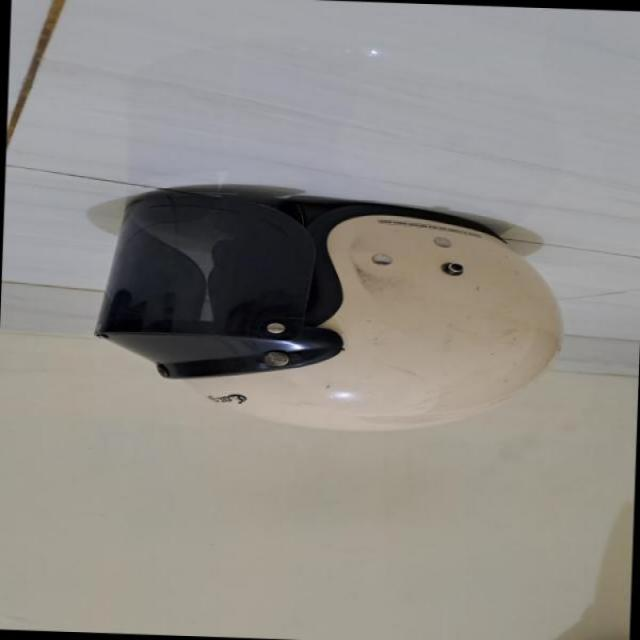Helmet: (93, 156, 573, 434)
